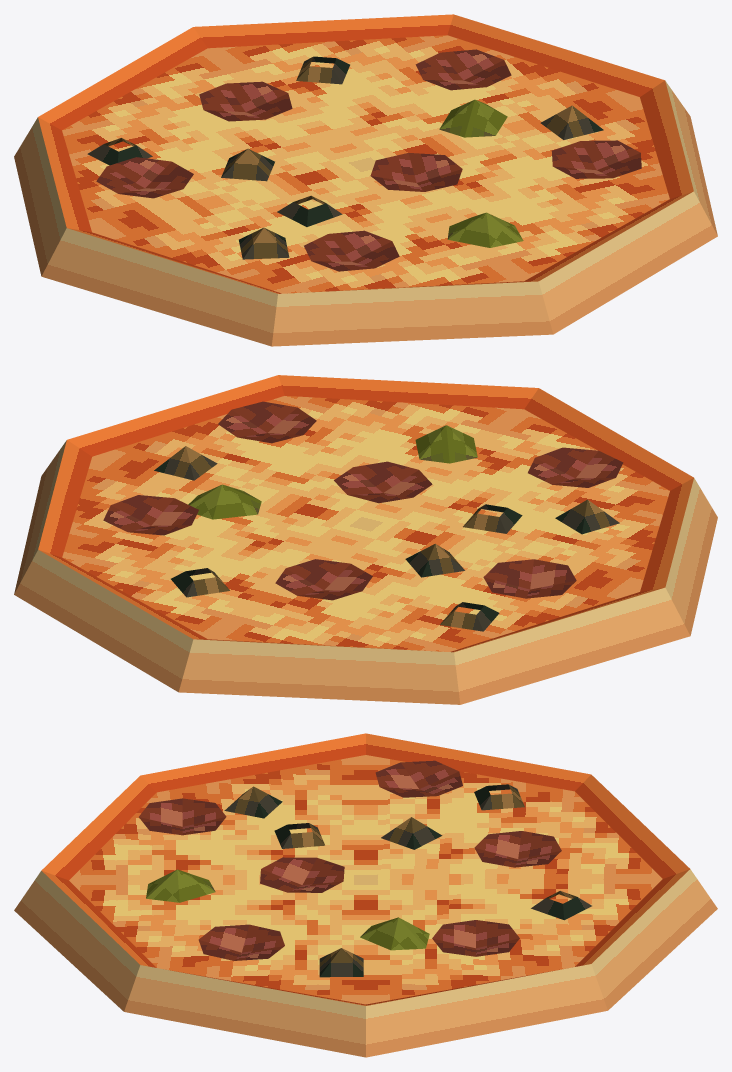
The model's file is pizza_whole.fbx.
The picture shows the model from 3 angles, top to bottom: view 1: azimuth 30°, elevation 25°; view 2: azimuth 150°, elevation 25°; view 3: azimuth 270°, elevation 25°; orthographic projection. The views are drawn at different scales.
Parts seen in each view (by area): view 1: PizzaWhole; view 2: PizzaWhole; view 3: PizzaWhole.
Part boxes in pixels (<box>): PizzaWhole: <box>14,14,717,346</box>; PizzaWhole: <box>14,375,717,704</box>; PizzaWhole: <box>14,733,717,1057</box>.
Bounding box in the file's own units: 200 × 16.18 × 200.
Materials: 1 (1 with a texture image).
